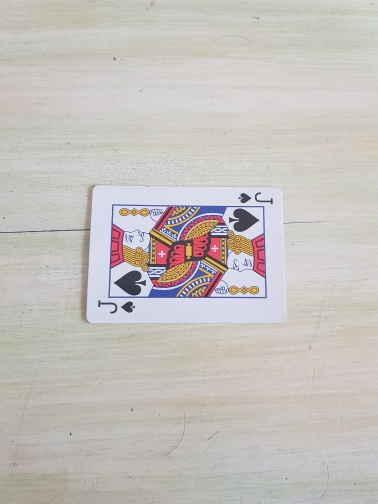jack: (85, 184, 288, 325)
